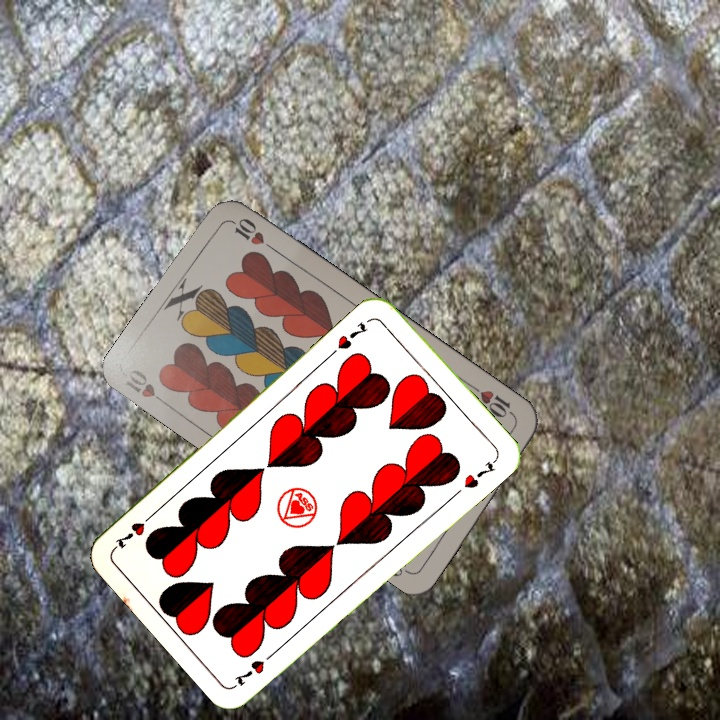H10: (122, 365, 173, 411), (468, 382, 519, 422)
H7: (230, 646, 280, 689), (333, 318, 371, 352)
